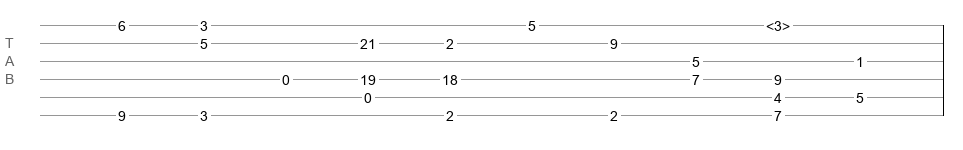0: (282, 72, 290, 82), (364, 90, 372, 100)
1: (856, 54, 864, 64)
18: (442, 72, 458, 82)
19: (360, 72, 376, 82)
2: (446, 36, 454, 46), (446, 108, 454, 118), (610, 108, 618, 118)
21: (360, 36, 376, 46)
3: (200, 18, 208, 28), (200, 108, 208, 118)
4: (774, 90, 782, 100)
5: (200, 36, 208, 46), (528, 18, 536, 28), (692, 54, 700, 64), (856, 90, 864, 100)
6: (118, 18, 126, 28)
7: (692, 72, 700, 82), (774, 108, 782, 118)
9: (118, 108, 126, 118), (610, 36, 618, 46), (774, 72, 782, 82)
harmonic: (766, 18, 790, 28)
